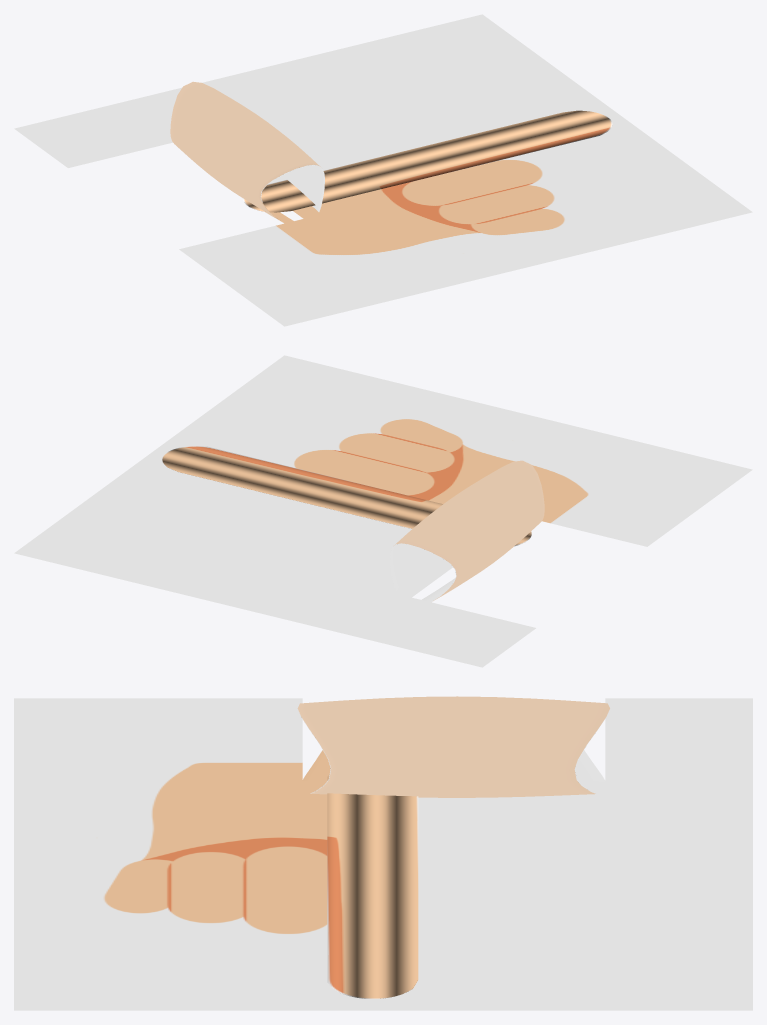
3 views of the same model, one above another, from view 1: azimuth 30°, elevation 25°; view 2: azimuth 150°, elevation 25°; view 3: azimuth 270°, elevation 25° (orthographic). The views are drawn at different scales.
Parts seen in each view (by area): view 1: mesh, blend_02, blend_01; view 2: mesh, blend_02, blend_01; view 3: mesh, blend_02, blend_01.
Part boxes in pixels (bbox=[...]): mesh: bbox=[14, 14, 752, 326]; blend_02: bbox=[170, 81, 324, 223]; blend_01: bbox=[243, 110, 612, 212]; mesh: bbox=[14, 355, 752, 667]; blend_02: bbox=[390, 460, 544, 602]; blend_01: bbox=[162, 446, 531, 546]; mesh: bbox=[14, 698, 752, 1010]; blend_02: bbox=[297, 696, 610, 797]; blend_01: bbox=[327, 774, 418, 998].
Size of the model in its own units: 2400 by 354 by 2400.
